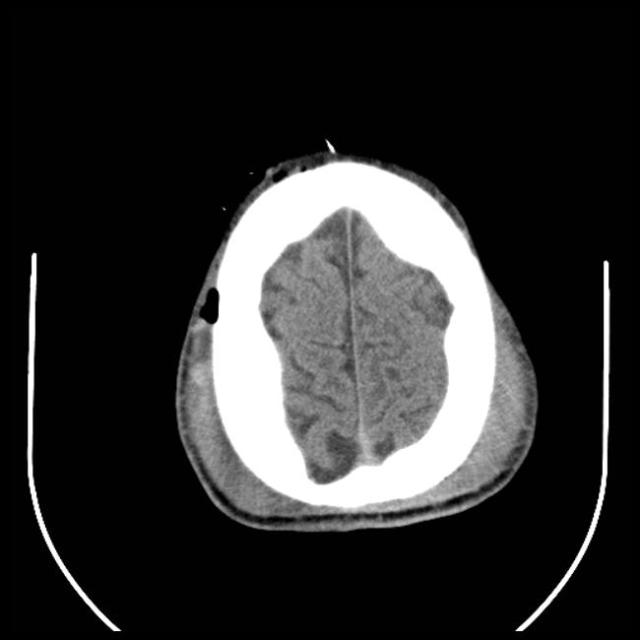lesion: (168, 140, 542, 536)
